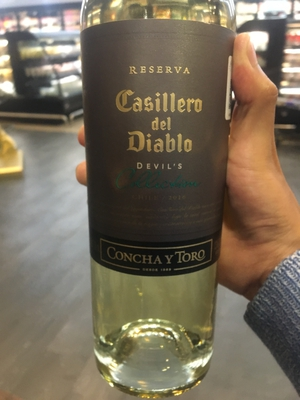casillero del diablo devils collection verde: (72, 3, 251, 389)
